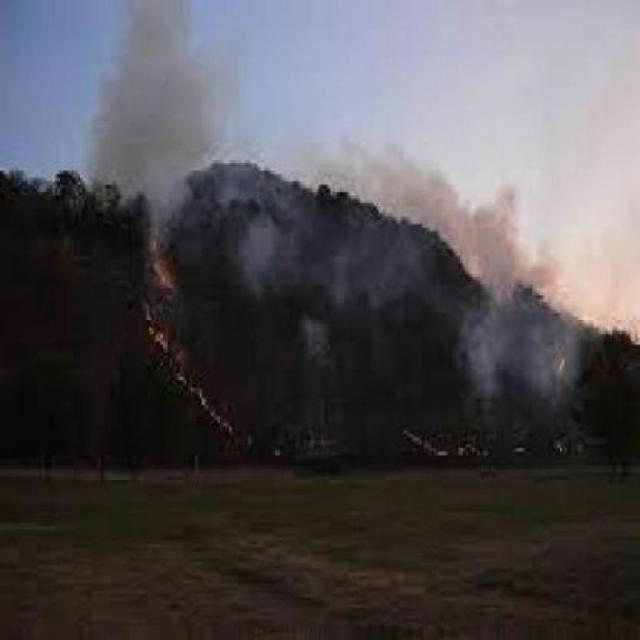Fire: (144, 248, 246, 466)
Smoke: (70, 8, 292, 207), (428, 204, 580, 414)
